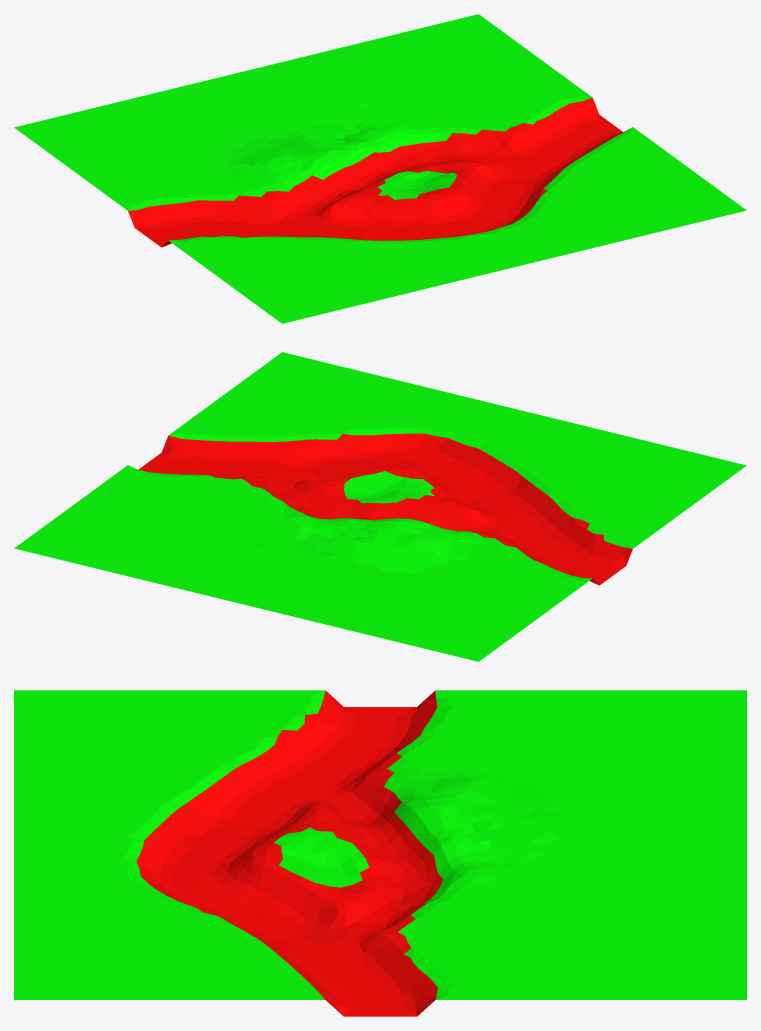
Rendered from RiverBifurcation02.fbx.
The picture shows the model from 3 angles, top to bottom: view 1: azimuth 30°, elevation 25°; view 2: azimuth 150°, elevation 25°; view 3: azimuth 270°, elevation 25°; orthographic projection. The views are drawn at different scales.
Parts seen in each view (by area): view 1: RiverBifurcation02; view 2: RiverBifurcation02; view 3: RiverBifurcation02.
Part boxes in pixels (bbox=[...]): RiverBifurcation02: bbox=[14, 14, 746, 323]; RiverBifurcation02: bbox=[14, 352, 746, 661]; RiverBifurcation02: bbox=[14, 690, 746, 1016].
Bounding box in the file's own units: 5009 × 258 × 5009.
